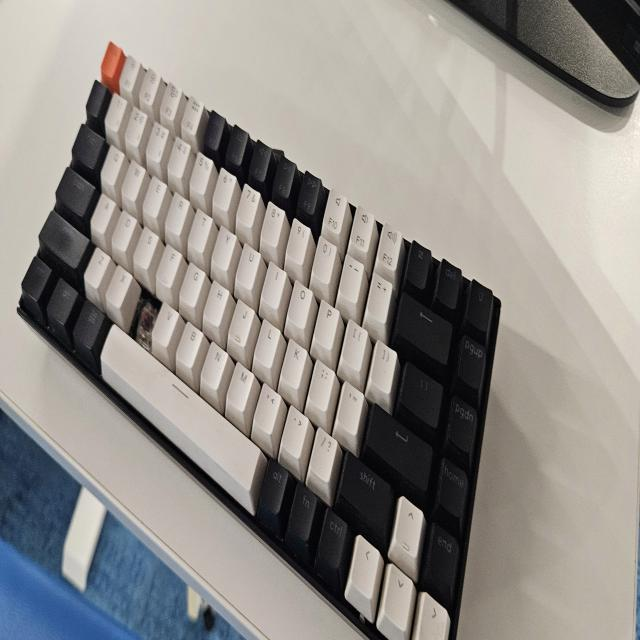C: (138, 299, 151, 335)
